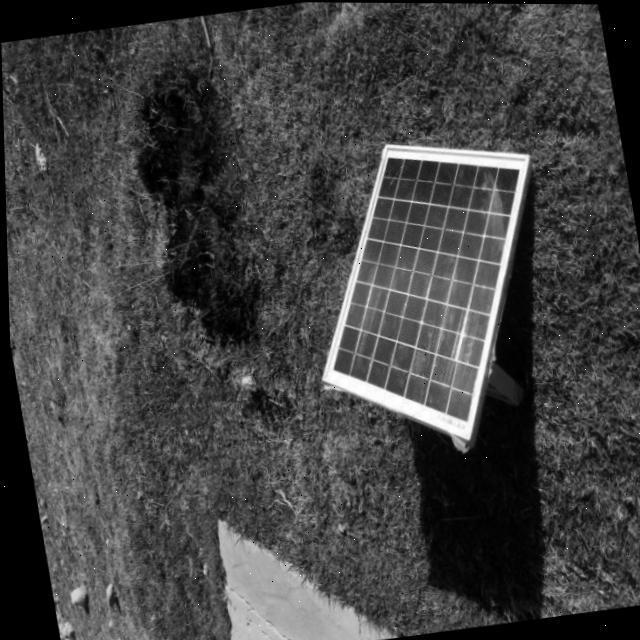Normal Solar Panel: (282, 121, 574, 462)
